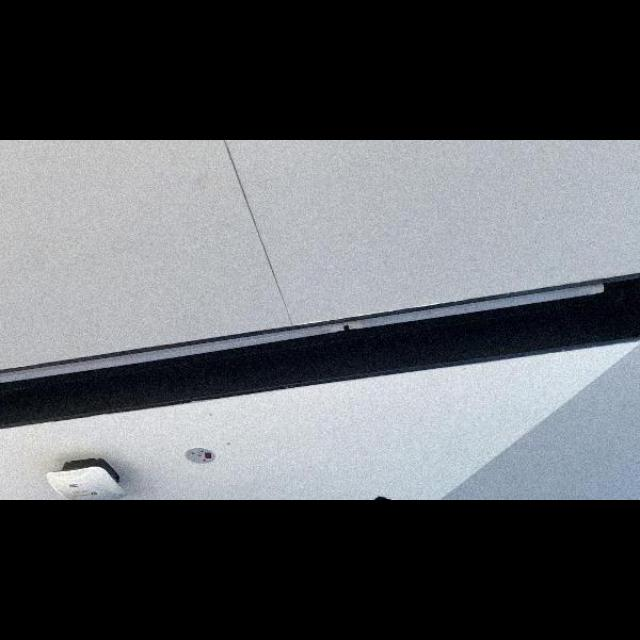Straight-Tube-Fluorescent-Lamp: (0, 257, 612, 411)
